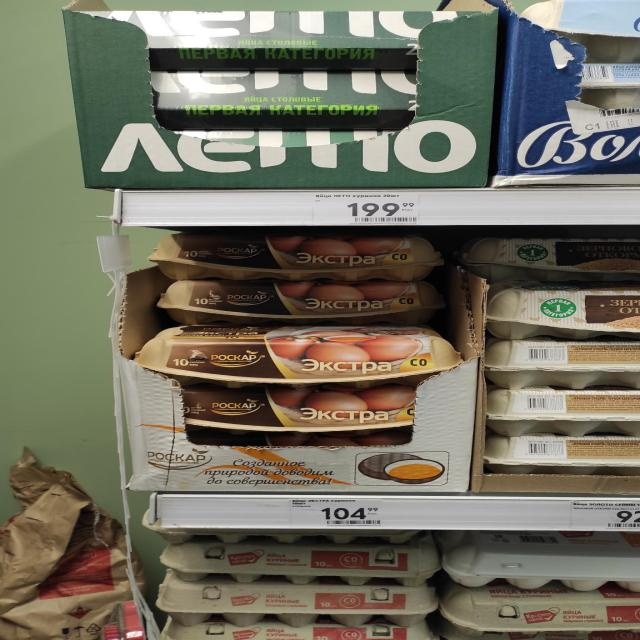organic waste: (134, 325, 462, 389), (150, 231, 446, 282), (161, 539, 445, 585), (153, 281, 449, 325), (156, 584, 440, 627), (181, 388, 415, 434), (489, 282, 640, 340), (460, 235, 640, 283), (450, 586, 640, 630), (496, 342, 640, 390), (496, 389, 640, 436), (496, 435, 640, 471), (158, 622, 441, 640)
